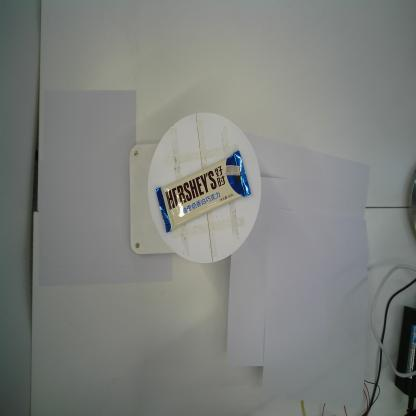Chocolate: (154, 149, 252, 236)
